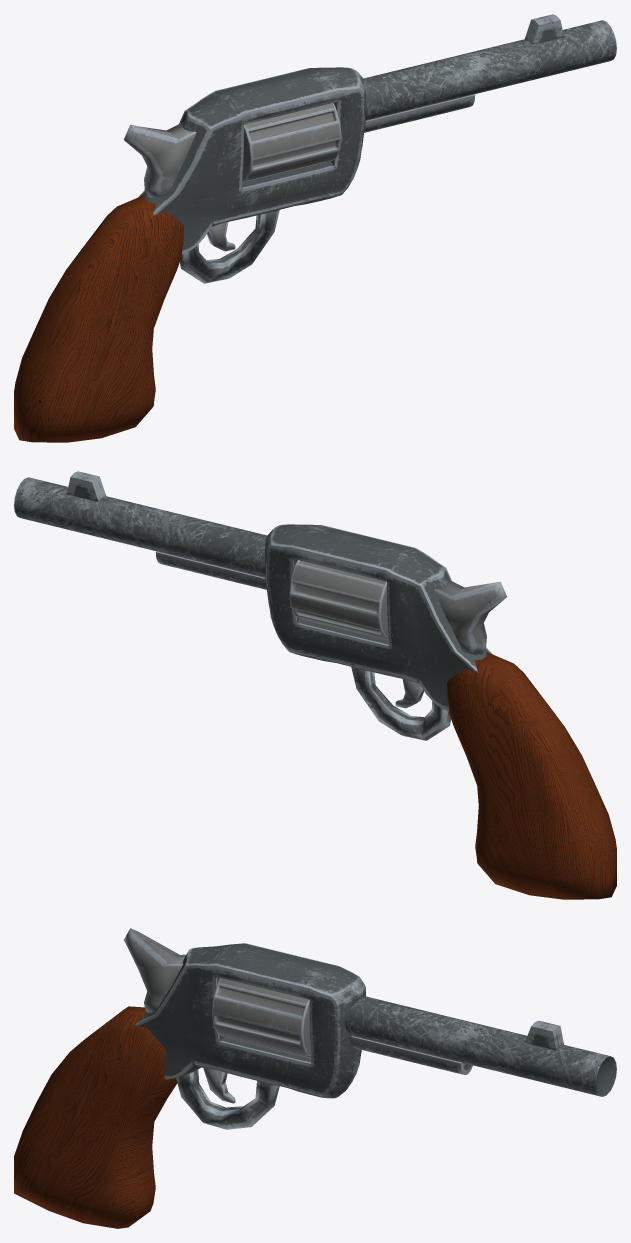
The model's file is revolver.fbx.
The picture shows the model from 3 angles, top to bottom: view 1: azimuth 30°, elevation 25°; view 2: azimuth 150°, elevation 25°; view 3: azimuth 330°, elevation 25°; orthographic projection.
Visible parts, largest first — view 1: griff, gun part3, lauf oder so, Cylinder, gun1, gun part 2, gun part 5, gun part4; view 2: griff, gun part3, lauf oder so, Cylinder, gun1, gun part 2, gun part 5, gun part4; view 3: griff, gun part3, lauf oder so, Cylinder, gun part 2, gun1, gun part 5, gun part4, trigger.
Part boxes in pixels (box(x1,y1,x2,y2)): griff: box(14, 195, 183, 442); gun part3: box(138, 67, 365, 254); lauf oder so: box(363, 20, 616, 120); Cylinder: box(242, 103, 341, 183); gun1: box(124, 122, 196, 198); gun part 2: box(180, 210, 279, 283); gun part 5: box(364, 94, 475, 132); gun part4: box(525, 14, 563, 44); griff: box(447, 652, 616, 899); gun part3: box(265, 524, 492, 711); lauf oder so: box(14, 477, 267, 577); Cylinder: box(289, 560, 388, 640); gun1: box(434, 579, 506, 655); gun part 2: box(351, 667, 450, 740); gun part 5: box(155, 551, 266, 589); gun part4: box(67, 471, 105, 501); griff: box(14, 1006, 177, 1228); gun part3: box(134, 943, 365, 1098); lauf oder so: box(344, 996, 616, 1096); Cylinder: box(211, 978, 311, 1058); gun part 2: box(176, 1069, 279, 1129); gun1: box(123, 928, 185, 1012); gun part 5: box(350, 1035, 472, 1074); gun part4: box(524, 1020, 563, 1050); trigger: box(203, 1068, 235, 1103).
Bounding box in the file's own units: 54.7 × 27.38 × 6.61.
